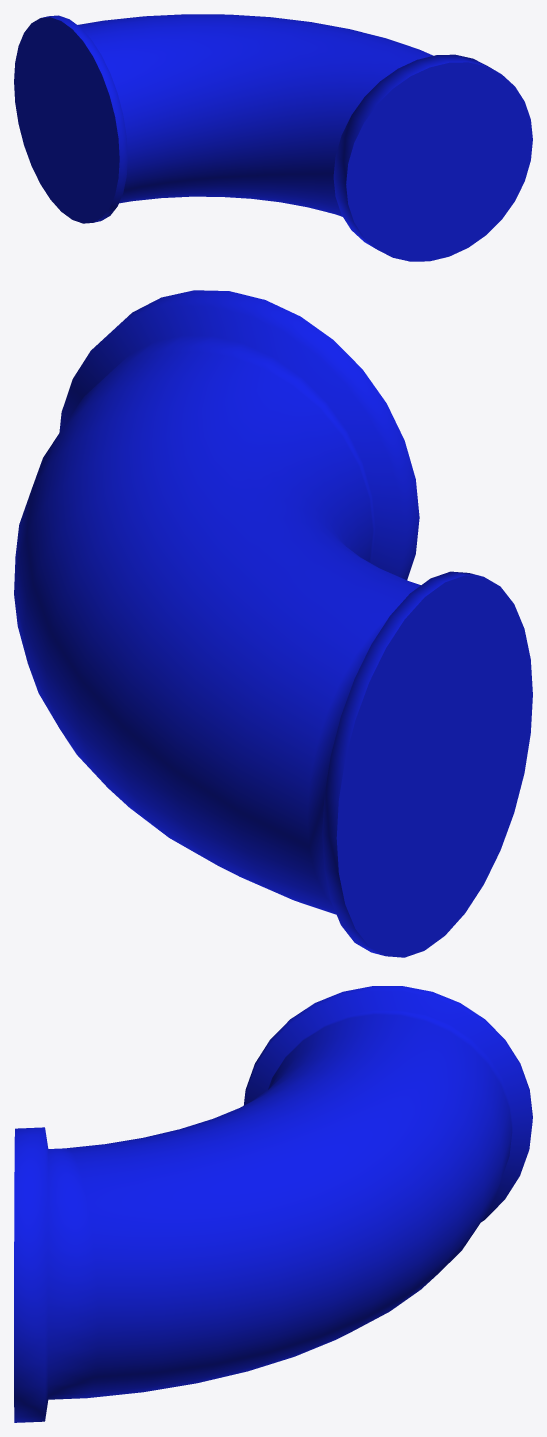
Rendered from egig_boru.FBX.
The picture shows the model from 3 angles, top to bottom: view 1: azimuth 30°, elevation 25°; view 2: azimuth 150°, elevation 25°; view 3: azimuth 270°, elevation 25°; orthographic projection. The views are drawn at different scales.
Parts seen in each view (by area): view 1: Cylinder003; view 2: Cylinder003; view 3: Cylinder003.
Part boxes in pixels (box(x1,y1,x2,y2)): Cylinder003: box(14, 14, 532, 261); Cylinder003: box(14, 290, 532, 957); Cylinder003: box(14, 986, 532, 1422).
Size of the model in its own units: 27.82 by 15.62 by 27.59.
